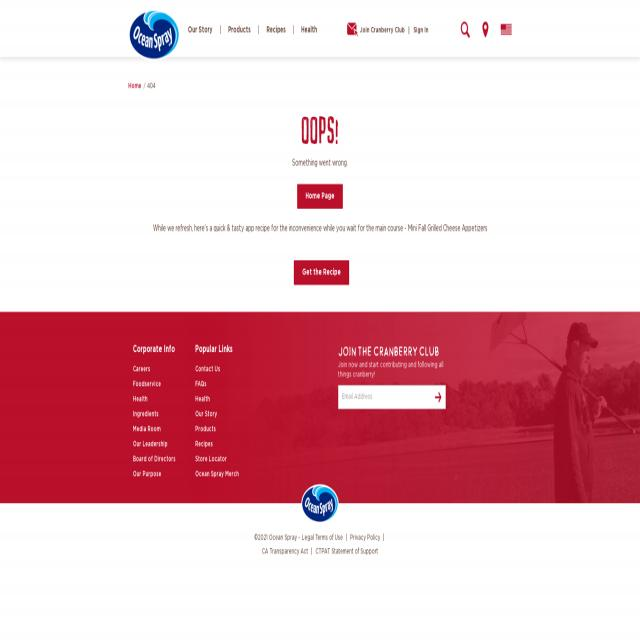button: (128, 8, 180, 61), (301, 484, 339, 523), (294, 260, 348, 285), (297, 184, 343, 208), (461, 22, 470, 38), (501, 24, 512, 35), (482, 22, 488, 38), (435, 392, 441, 403)
field: (338, 385, 446, 410)
